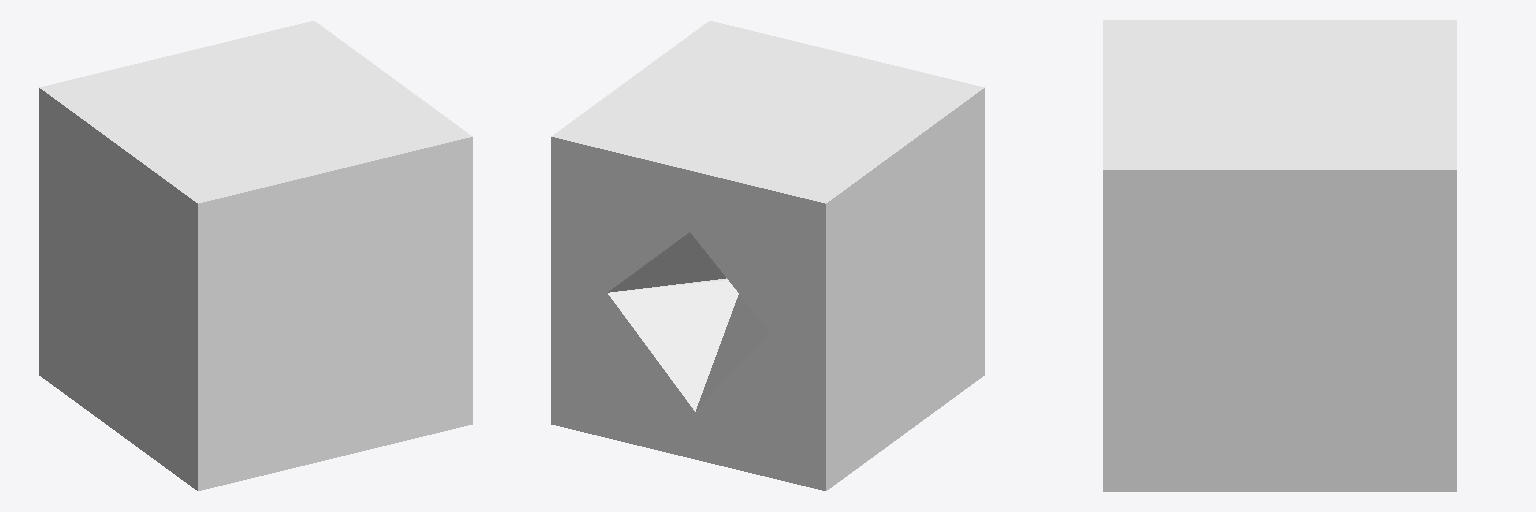
URDF robot description (Pentagon_cube_bottle_preprocessed_convex):
<?xml version="1.0" ?>
<robot name="Pentagon_cube_bottle_preprocessed_convex">
  <link name="baseLink">
    <contact>
    	<friction_anchor/>
    	   <lateral_friction value="1.0"/>
    </contact>
    <inertial>
      <origin rpy="0 0 0" xyz="0 0 0"/>
       <!-- mass controls penetration -->
       <mass value=".5"/>
       <inertia ixx="1e-4" ixy="0" ixz="0" iyy="1e-4" iyz="0" izz="1e-4"/>
    </inertial>
    <visual>
      <origin rpy="0 0 0" xyz="0 0 0"/>
      <geometry>
        <mesh filename="Pentagon_cube_bottle_preprocessed_convex.obj"/>
      </geometry>
       <material name="white">
        <color rgba="1 1 1 1"/>
      </material>
    </visual>
    <collision>
      <origin rpy="0 0 0" xyz="0 0 0"/>
      <geometry>
        <mesh filename="Pentagon_cube_bottle_preprocessed_convex.obj"/>
      </geometry>
    </collision>
  </link>
</robot>

--- Facts derived from the render (not from the file) ---
The picture shows the robot from 3 angles, left to right: view 1: azimuth 30°, elevation 25°; view 2: azimuth 150°, elevation 25°; view 3: azimuth 270°, elevation 25°; orthographic projection.
Robot: Pentagon_cube_bottle_preprocessed_convex — 1 links, 0 joints (none); root link baseLink; default pose: every joint at zero.
Visible links, largest first — view 1: baseLink; view 2: baseLink; view 3: baseLink.
Link boxes in pixels (x1=…): baseLink: x1=39, y1=21, x2=472, y2=490; baseLink: x1=551, y1=21, x2=984, y2=490; baseLink: x1=1103, y1=20, x2=1456, y2=491.
Bounding box of the posed robot: 0.0808 × 0.0808 × 0.0808 m (x, y, z).
Meshes: 1 distinct files referenced, 1 mesh visuals loaded (1 OBJ).